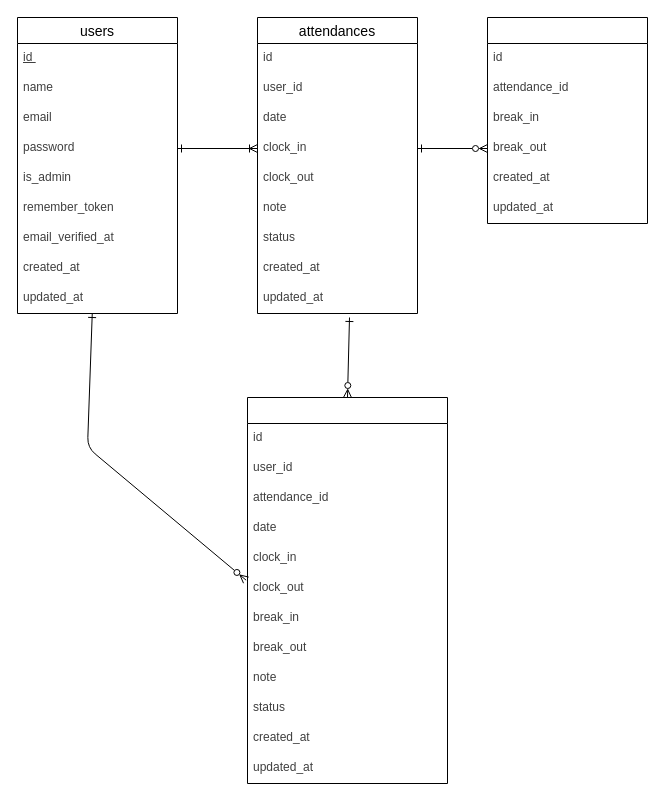
Some shapes in this 665 by 804 pixel diagram are drawn without their labels. The shapes that lost their labels are listed below. From the top down, each one's box as (x1, y1, x2, y2) in pixels, then its label:
(486, 16, 648, 224): break_times
(246, 396, 448, 784): stamp_correction_requests
